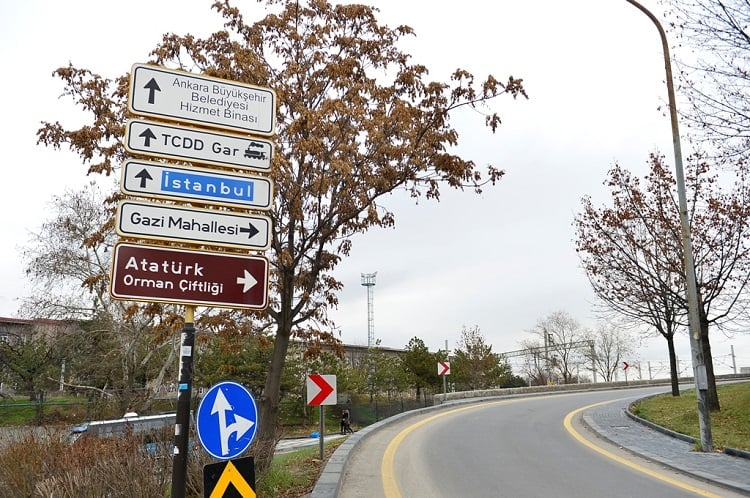ileri_veya_saga: (195, 382, 258, 458)
